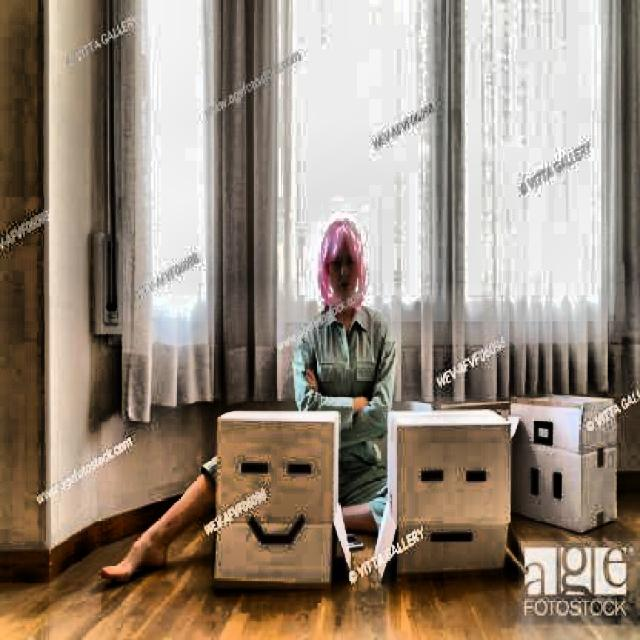Cardbox: (362, 397, 635, 572), (334, 402, 510, 587), (202, 408, 346, 595)
